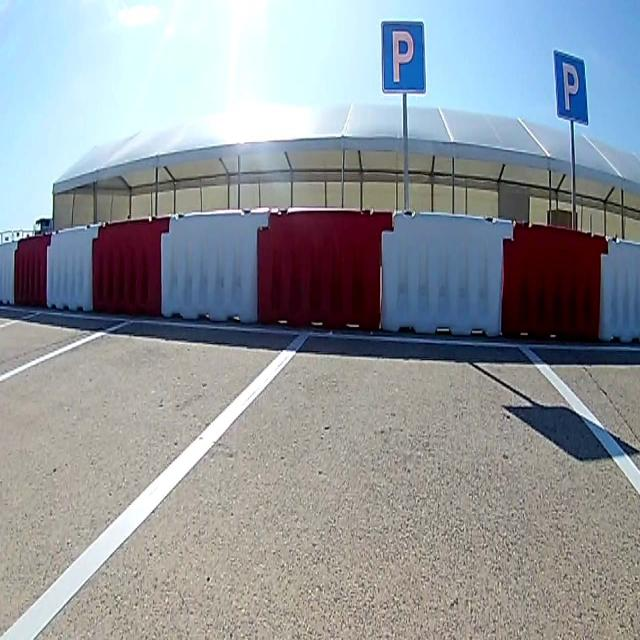park: (381, 20, 424, 90), (554, 52, 588, 124)
